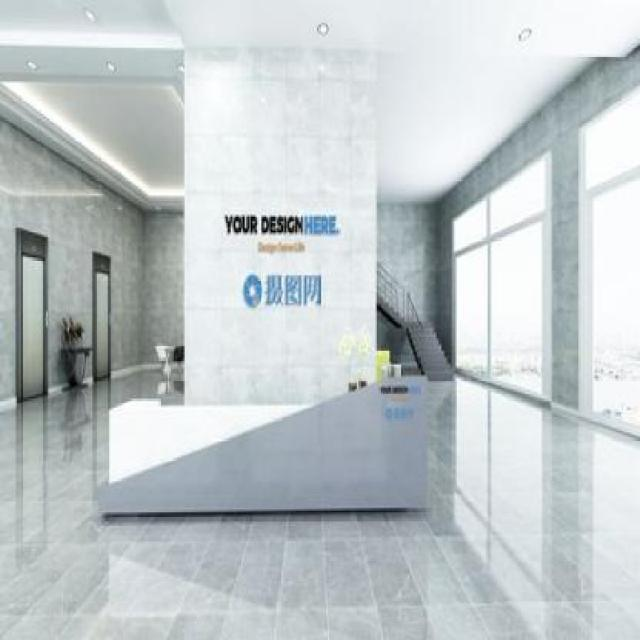frontdesk: (101, 364, 432, 524)
